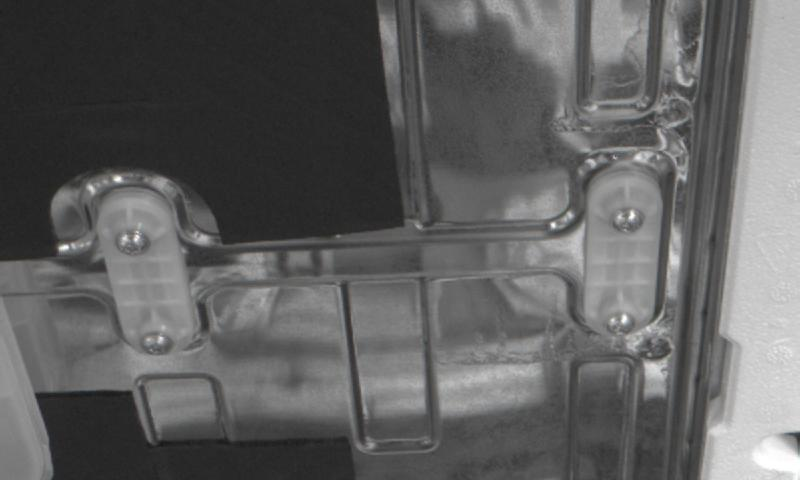vida-ok: (108, 222, 157, 267), (596, 306, 642, 347), (129, 322, 177, 361), (609, 201, 647, 240)
